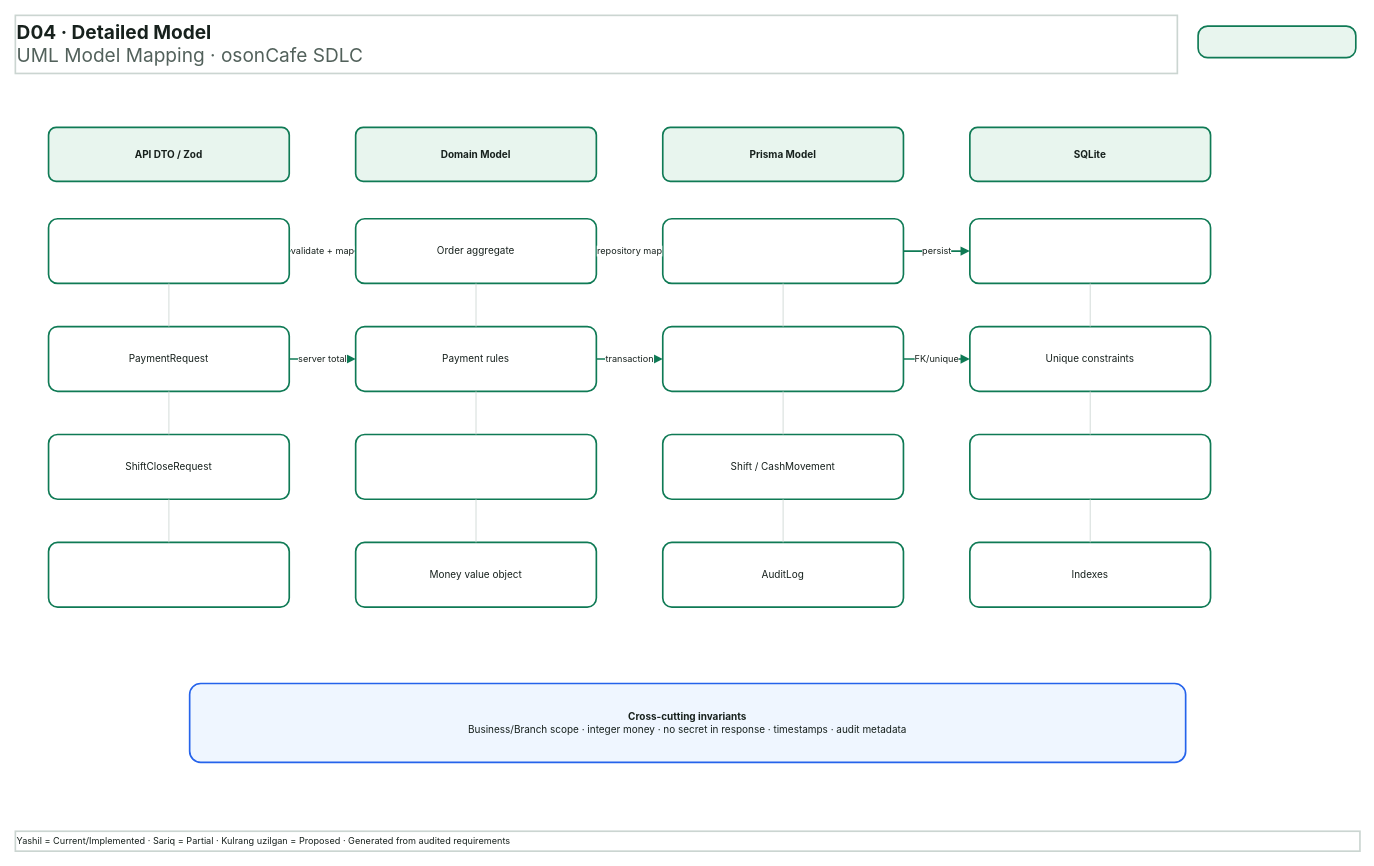
Image size: 1374x866. Some labels were removed from this diagram. The centre of each missing label's shape, as x and y in pixels:
CreateOrderRequest: the point at 168,250
Current: the point at 1276,41
Order / OrderItem: the point at 783,250
Payment / Refund: the point at 783,358
PK / FK: the point at 1090,250
Public response DTO: the point at 168,574
Shift rules: the point at 475,466
Transaction boundary: the point at 1090,466
